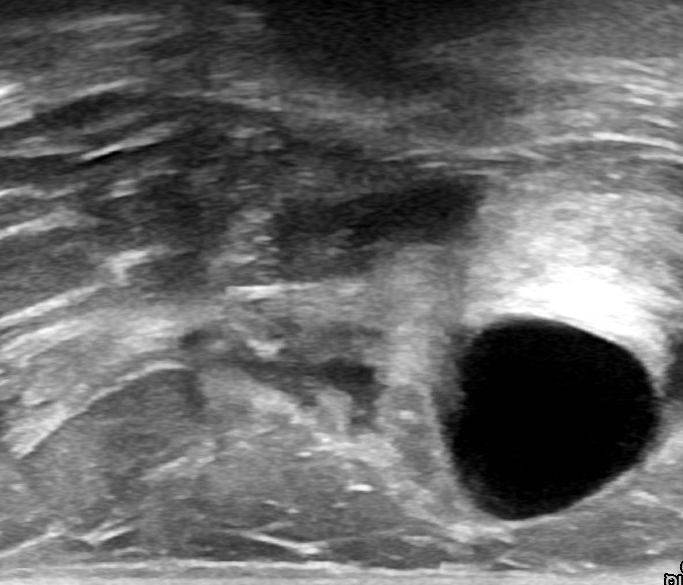Benign: (442, 313, 659, 512)
